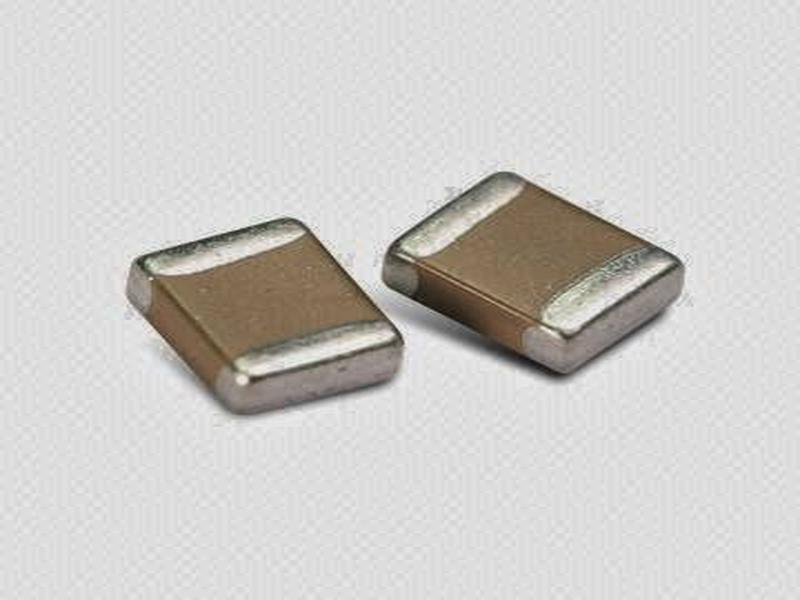SMD capacitor: (114, 201, 413, 447)
